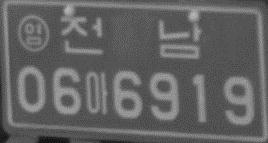0: (15, 64, 46, 114)
1: (184, 72, 216, 123)
6: (112, 69, 143, 120), (52, 66, 82, 116)
9: (222, 76, 256, 126), (148, 71, 181, 121)
아: (83, 70, 110, 117)
영: (16, 14, 51, 54)
전남_D: (59, 15, 202, 60)
